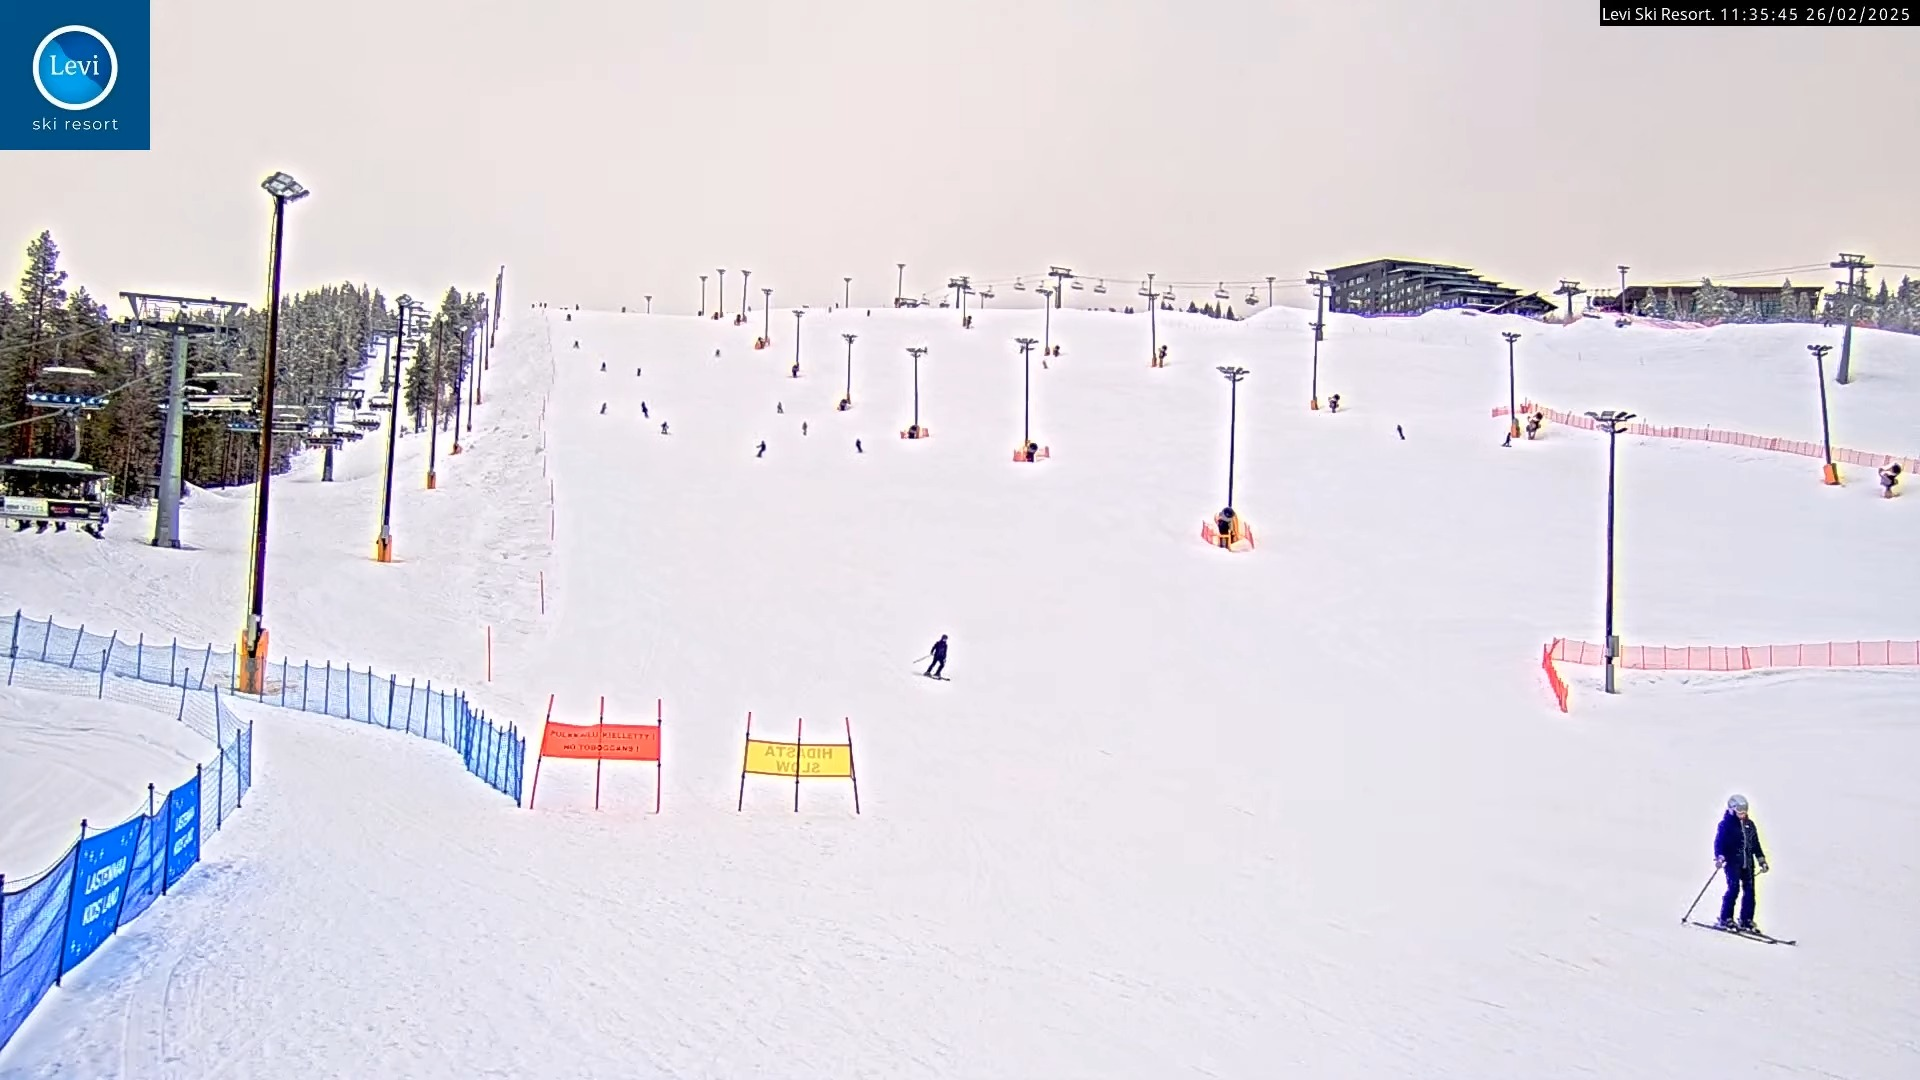skier: (1688, 795, 1796, 944), (910, 621, 956, 680)
